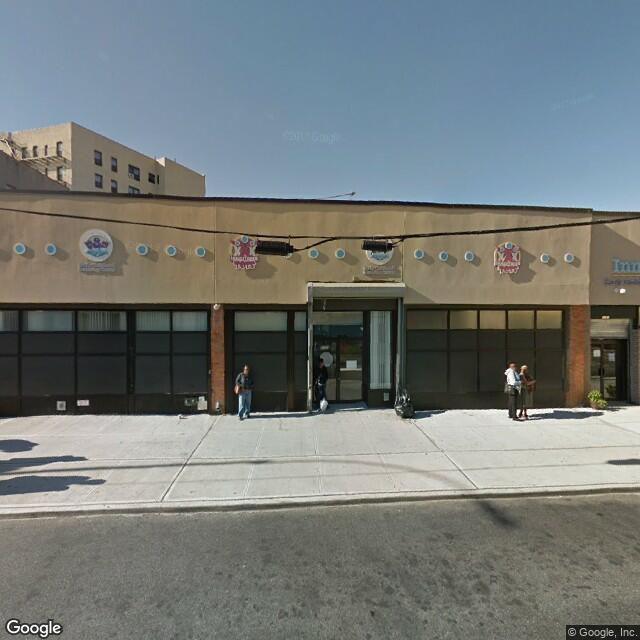litter: (391, 388, 421, 421)
